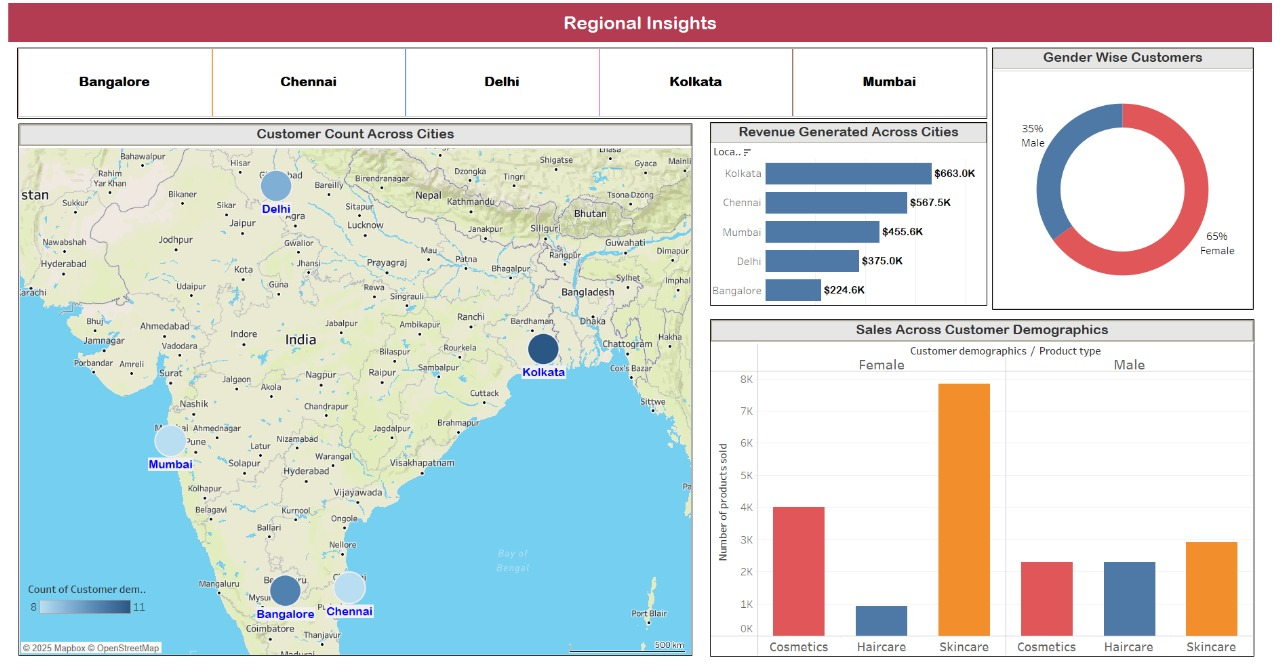

This screenshot's page, from the dashboard's own definition file:
{"tool":"tableau","page":{"name":"Regional Insights","canvas":[1000,1000],"units":"permille","ordinal":3},"visuals":[{"type":"text","box":[6,12.5,971,58.7]},{"type":"worksheet","title":"Regions","mark":"GanttBar","cols":["Location"],"box":[13.3,78.7,745.3,106.1]},{"type":"worksheet","title":"Gender Wise Customers","mark":"Pie","rows":["Calculation_1744019017302249483","Calculation_1744019017302265869"],"box":[762.2,78.7,201,389.5]},{"type":"worksheet","title":"Revenue Generated Across Cities","mark":"Automatic","rows":["Location"],"cols":["Revenue generated"],"box":[545.6,189.8,213,273.4]},{"type":"worksheet","title":"Customer Count Across Cities","mark":"Pie","box":[13.9,191,517.8,791.5]},{"type":"worksheet","title":"Sales Across Customer Demographics","mark":"Automatic","rows":["Number of products sold"],"cols":["Customer demographics","Product type"],"box":[545.6,481.9,418.2,501.9]},{"type":"legend","title":"Customer Count Across Cities","param":"[federated.08ssd4x013gij215j9kym1rdqcrj].[cnt:Customer demographics:qk]","box":[21.1,872.7,92.9,79.9]}]}

Visuals, with their boxes on the dashboard's canvas, which has no fixed pixel size, in thousandths of its width and height (x1, y1, x2, y2). These are canvas units, not pixel positions in the 1280x666 screenshot, which may show the page scaled, cropped or inside an application window:
text: l=6, t=12, r=977, b=71
"Regions" worksheet (GanttBar marks): l=13, t=79, r=759, b=185
"Gender Wise Customers" worksheet (Pie marks): l=762, t=79, r=963, b=468
"Revenue Generated Across Cities" worksheet: l=546, t=190, r=759, b=463
"Customer Count Across Cities" worksheet (Pie marks): l=14, t=191, r=532, b=982
"Sales Across Customer Demographics" worksheet: l=546, t=482, r=964, b=984
"Customer Count Across Cities" legend: l=21, t=873, r=114, b=953
